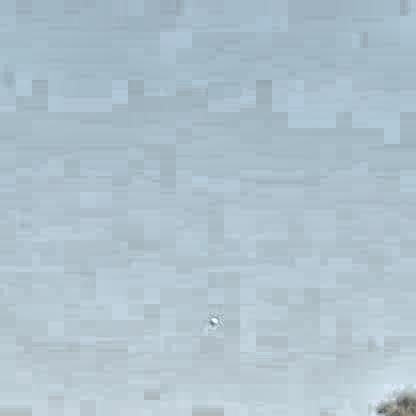golfball: (207, 315, 215, 322)
